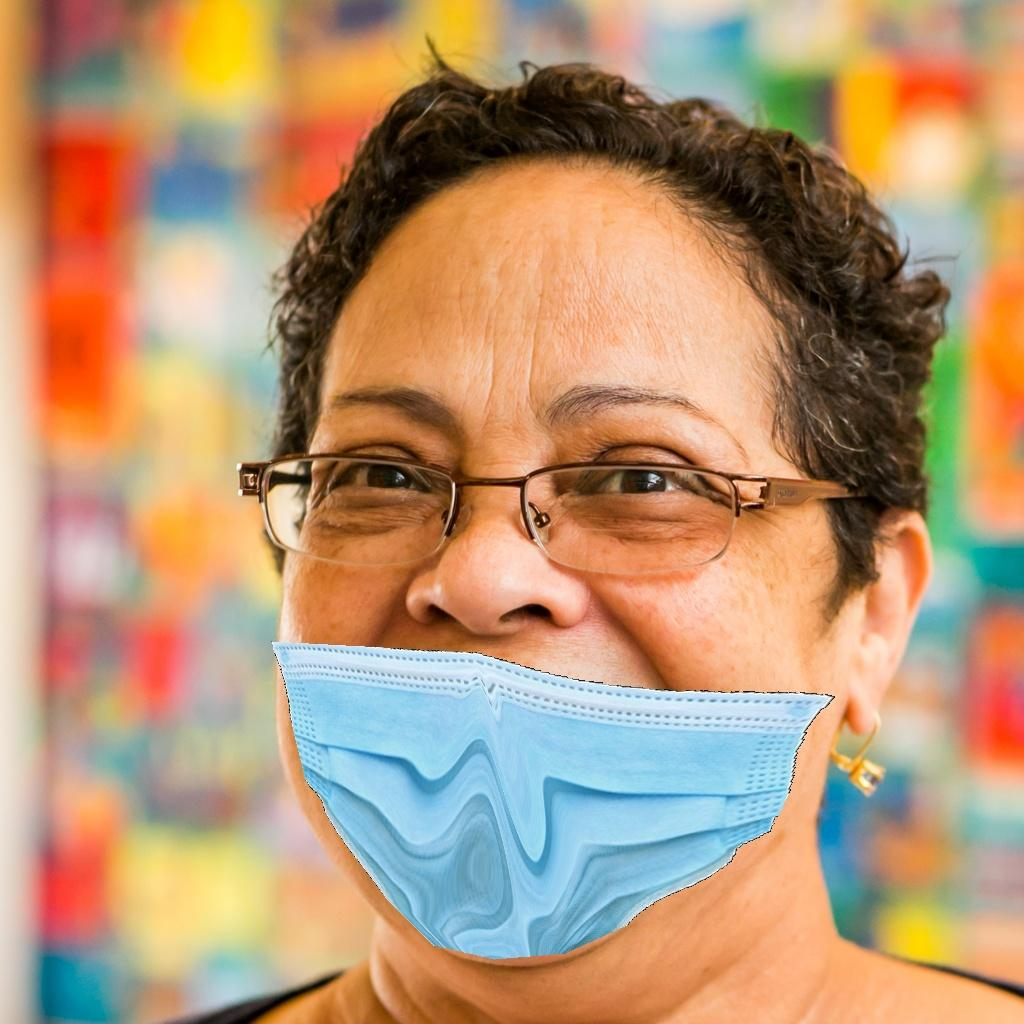Máscara Incorreta: (300, 258, 812, 923)
